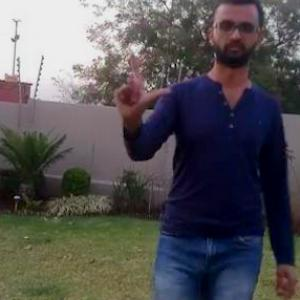land_hand: (103, 46, 172, 120)
